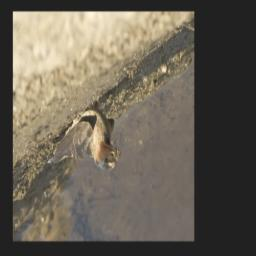Swallow: (50, 105, 120, 172)
